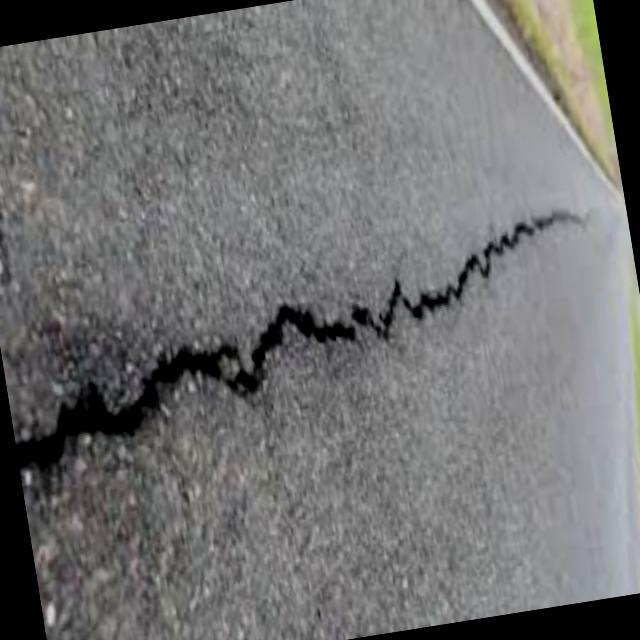crack: (0, 206, 622, 481)
